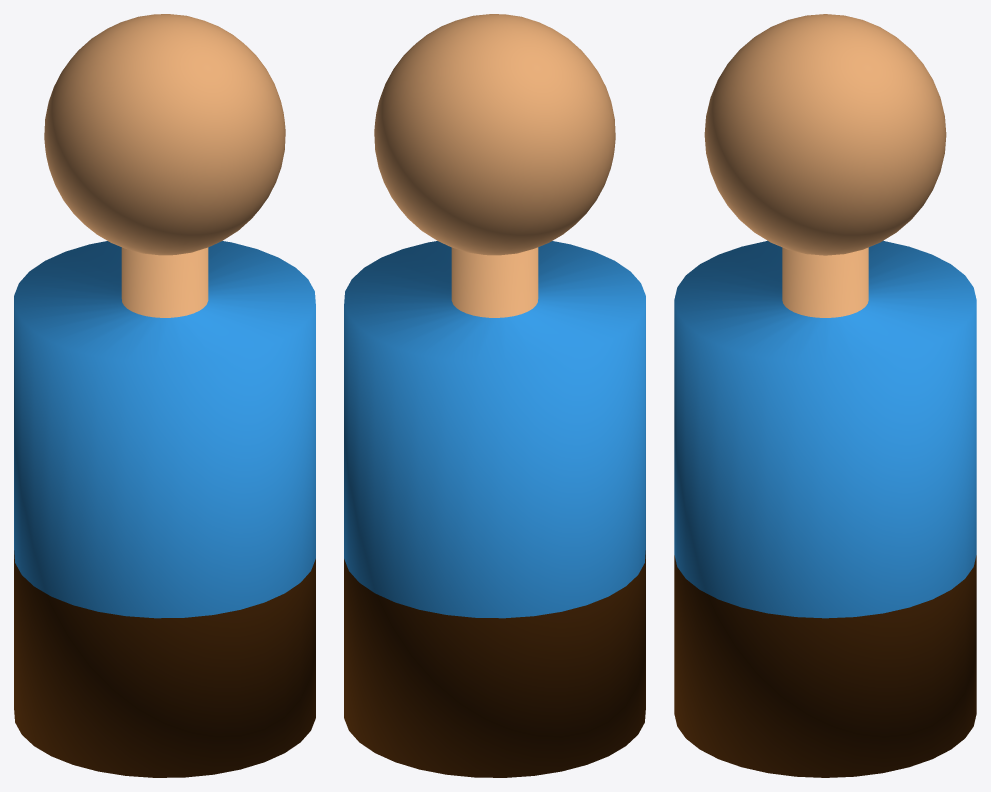
The model's file is Character_09.fbx.
The picture shows the model from 3 angles, left to right: view 1: azimuth 30°, elevation 25°; view 2: azimuth 150°, elevation 25°; view 3: azimuth 270°, elevation 25°; orthographic projection.
Parts seen in each view (by area): view 1: Circle.001, Icosphere.001; view 2: Circle.001, Icosphere.001; view 3: Circle.001, Icosphere.001.
Boxes of the visible parts, x1,y1,x2,y2 form: Circle.001: [14, 241, 315, 777]; Icosphere.001: [44, 14, 285, 255]; Circle.001: [344, 241, 645, 777]; Icosphere.001: [374, 14, 615, 255]; Circle.001: [674, 240, 976, 777]; Icosphere.001: [704, 14, 946, 255].
Size of the model in its own units: 200 by 503 by 200.
